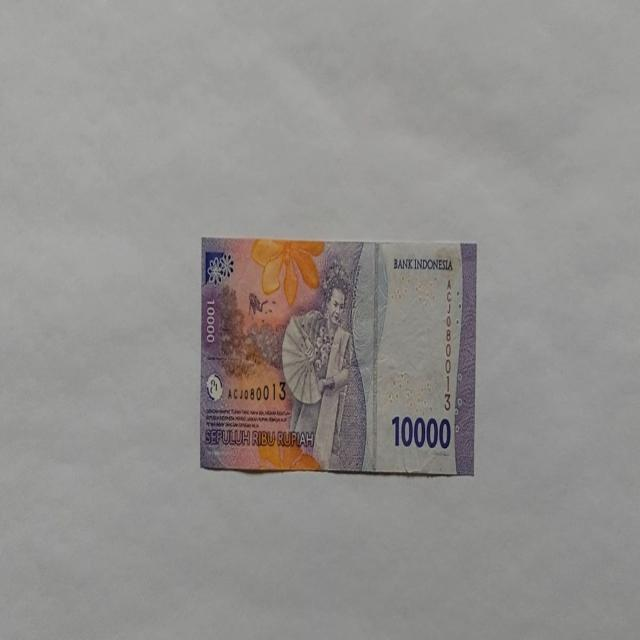sepuluh ribu rupiah: (199, 236, 477, 477)
